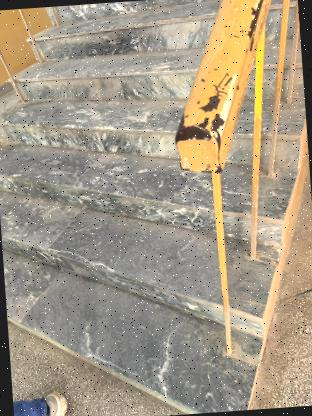stair: (0, 0, 304, 394)
